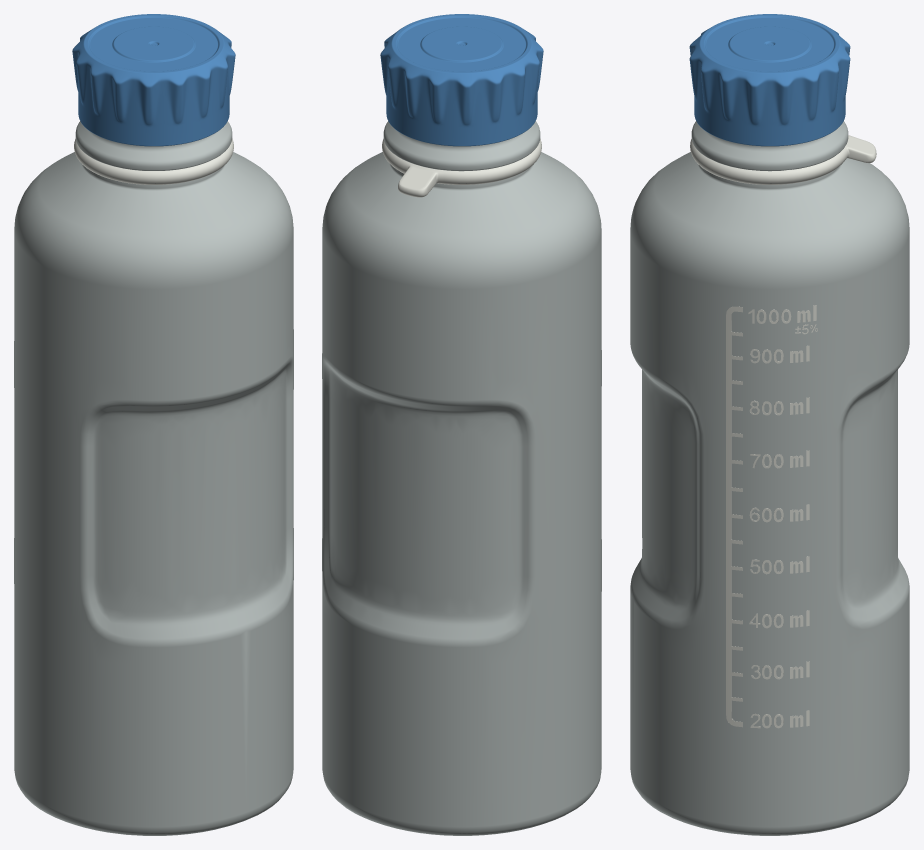
The model's file is bottle_laboratory_a04.glb.
3 views of the same model, side by side, from view 1: azimuth 30°, elevation 25°; view 2: azimuth 150°, elevation 25°; view 3: azimuth 270°, elevation 25° (orthographic).
Bounding box in the file's own units: 0.0941 × 0.274 × 0.094.
